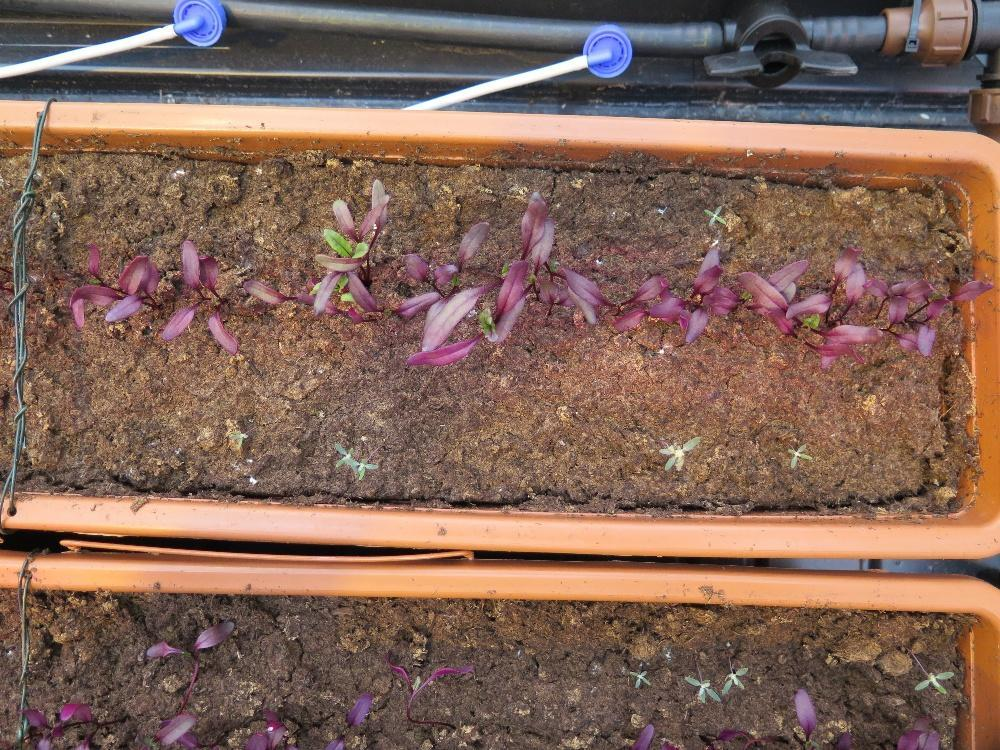weed: (683, 674, 720, 704), (913, 670, 954, 695), (720, 665, 747, 695), (786, 442, 812, 468), (226, 424, 249, 451), (701, 203, 726, 227), (628, 668, 650, 689)
